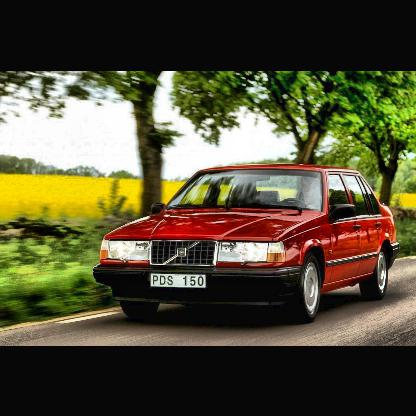Volvo 240 Sedan 1993: (88, 162, 407, 326)
